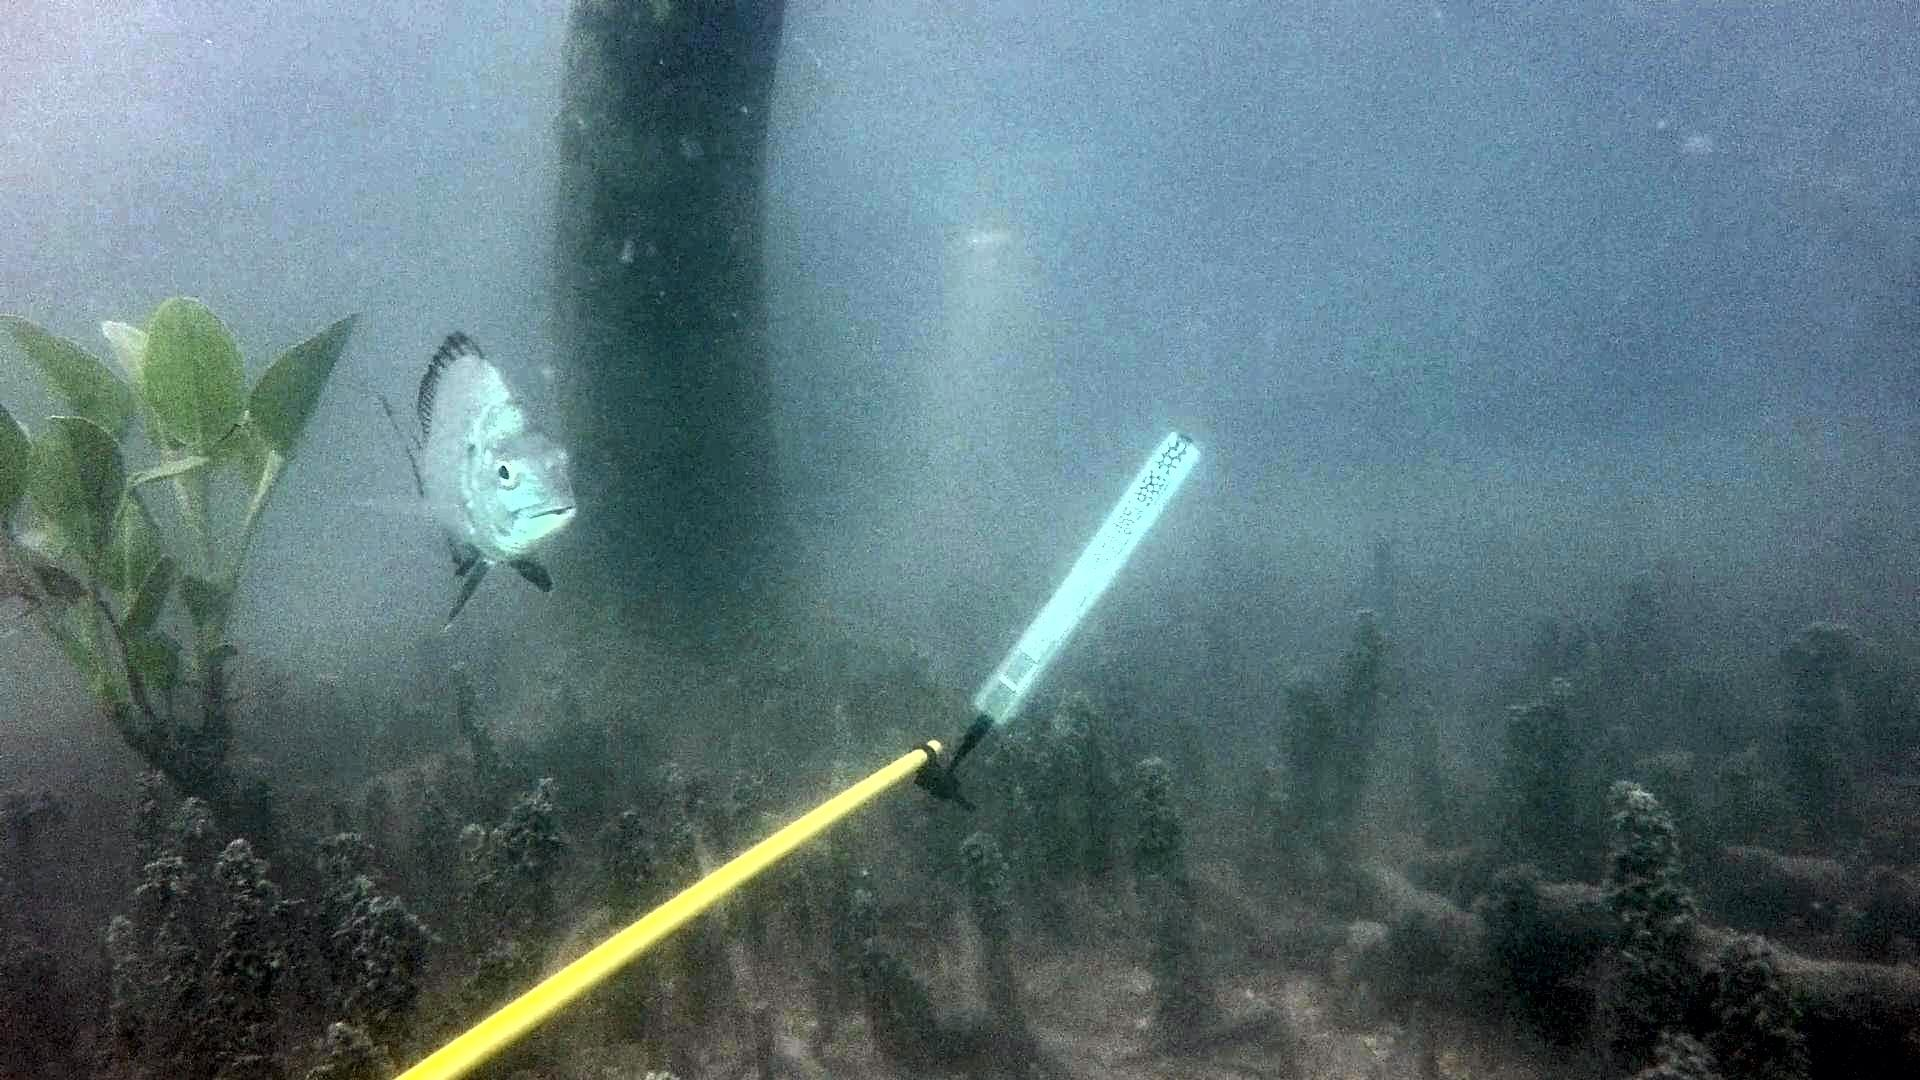acanthopagrus palmaris: (345, 323, 593, 633)
